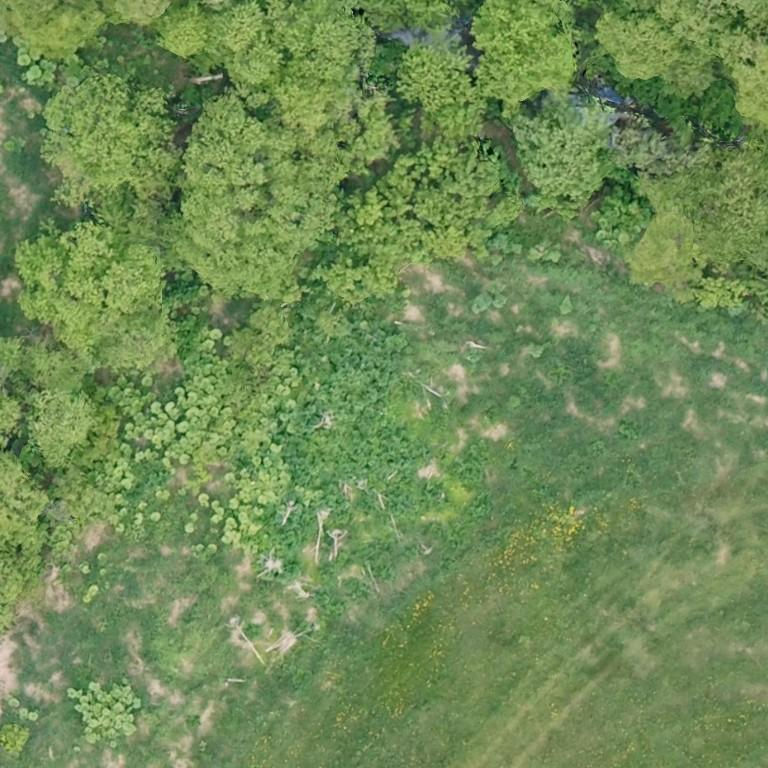hogweed: (282, 312, 445, 575)
